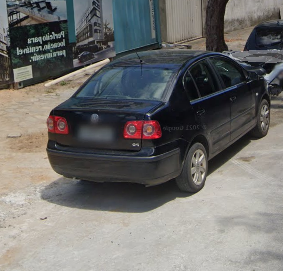car: (45, 46, 275, 197)
